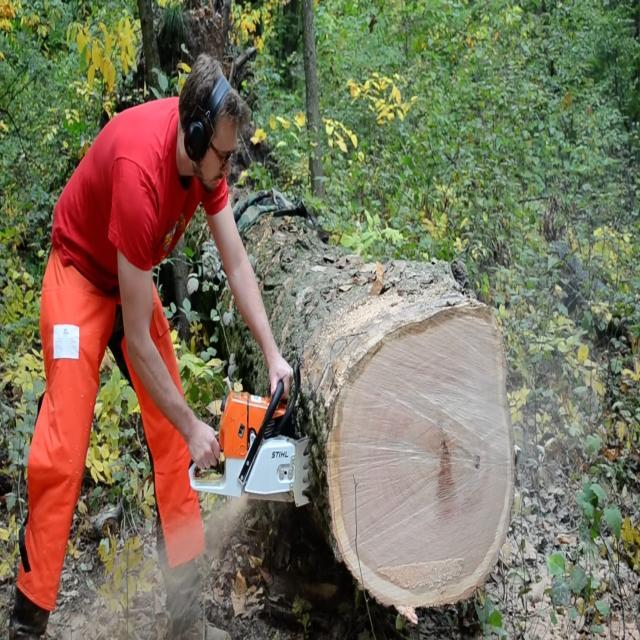Chainsaw: (173, 376, 344, 513)
